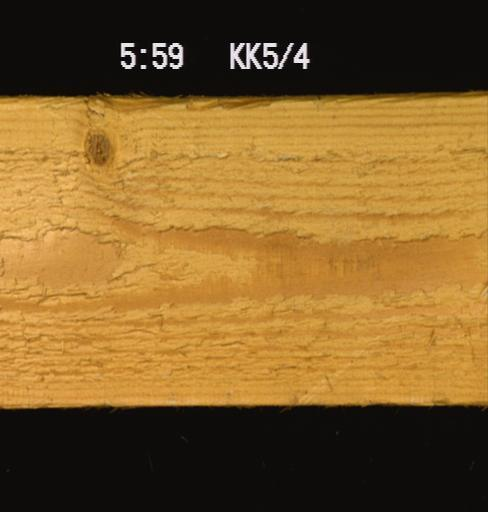sound_knot: (76, 124, 121, 170)
wave: (79, 94, 343, 116)
